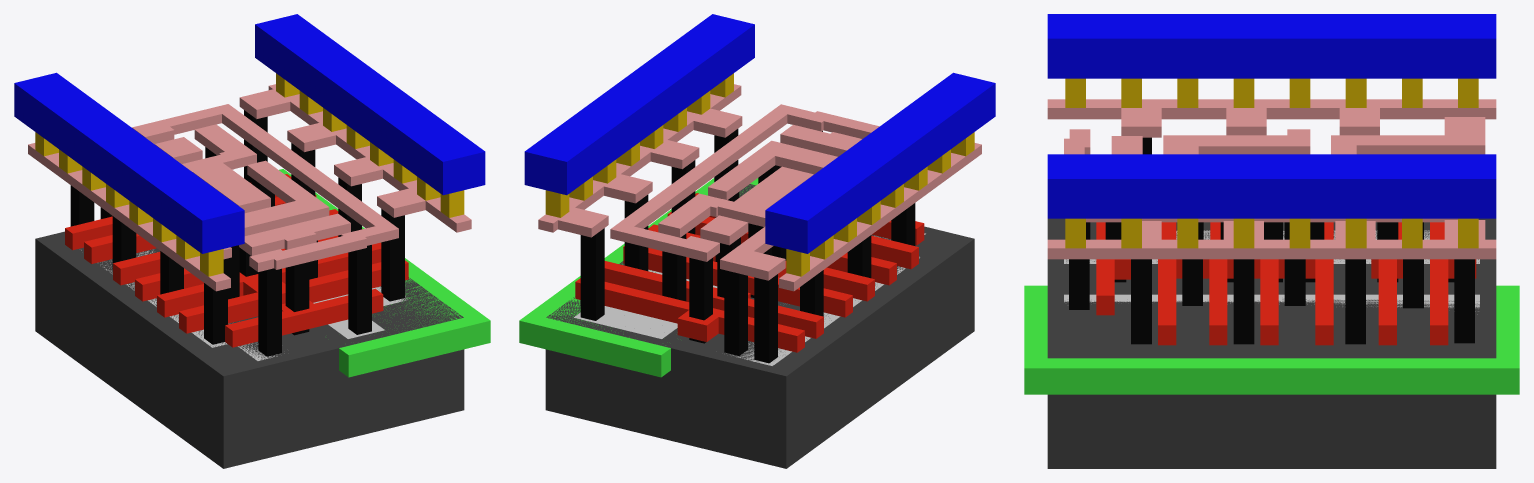
The model's file is sky130_fd_sc_hd__and2b_4.obj.
3 renders of one model, left to right at view 1: azimuth 30°, elevation 25°; view 2: azimuth 150°, elevation 25°; view 3: azimuth 270°, elevation 25°, orthographic. The views are drawn at different scales.
Visible parts, largest first — view 1: subs, metal1, li, licon, poly, nwell, mcon, diff, tap; view 2: subs, metal1, li, licon, poly, nwell, mcon, tap, diff; view 3: metal1, subs, li, nwell, poly, licon, mcon, tap.
Part boxes in pixels (<box>): subs: <box>35,231,464,468</box>; metal1: <box>14,14,485,253</box>; li: <box>28,84,471,291</box>; licon: <box>70,110,404,356</box>; poly: <box>65,174,408,347</box>; nwell: <box>279,169,490,377</box>; mcon: <box>35,73,464,276</box>; diff: <box>81,249,284,360</box>; tap: <box>313,286,407,338</box>; subs: <box>545,184,974,468</box>; metal1: <box>524,14,995,253</box>; li: <box>538,84,981,291</box>; licon: <box>580,129,915,363</box>; poly: <box>575,193,924,352</box>; nwell: <box>519,178,758,377</box>; mcon: <box>545,73,974,276</box>; tap: <box>574,269,717,338</box>; diff: <box>726,233,925,365</box>; metal1: <box>1047,14,1496,218</box>; subs: <box>1047,218,1496,468</box>; li: <box>1047,99,1496,259</box>; nwell: <box>1024,285,1519,394</box>; poly: <box>1096,222,1476,345</box>; licon: <box>1069,137,1474,344</box>; mcon: <box>1065,78,1478,248</box>; tap: <box>1064,294,1479,314</box>.
Bounding box in the file's own units: 3.2 × 2.74 × 4.06.
